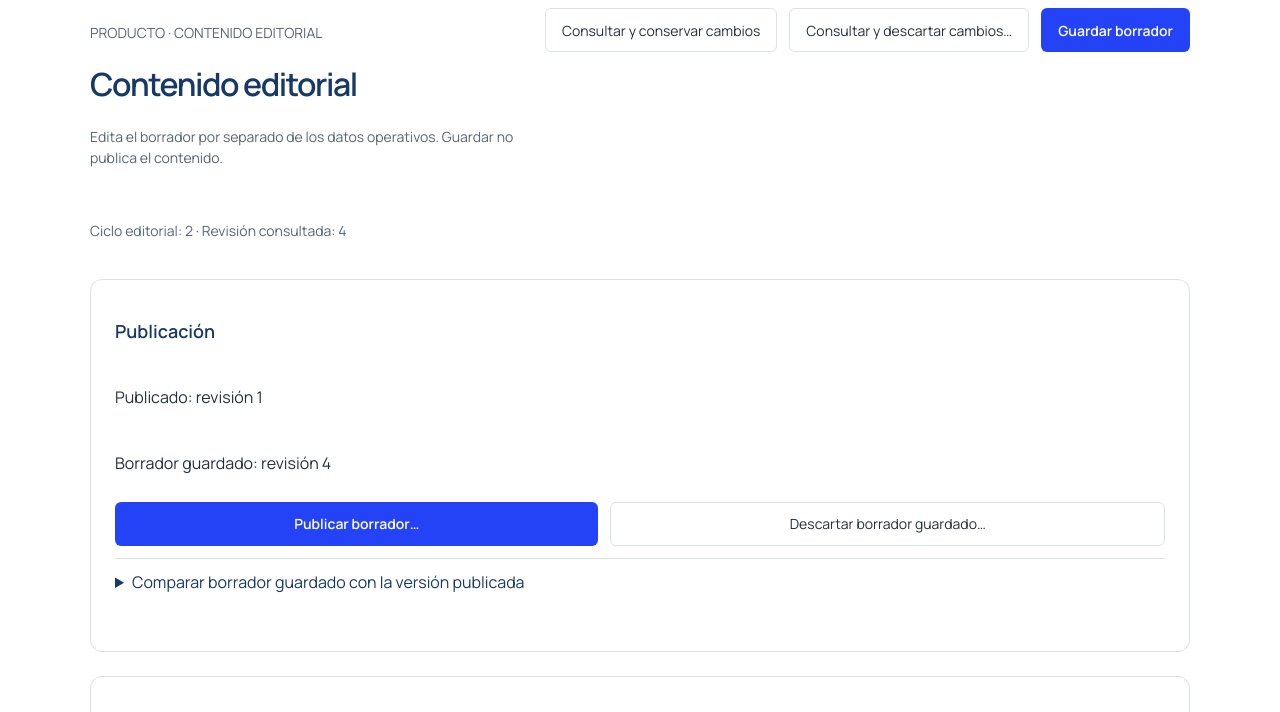
Test: editorial publication public UI › confirms only the saved revision, cancels without POST, and keeps receipt historical
Step 1. Click the button "Publicar borrador…" → (357,524), box [115,502,598,546]
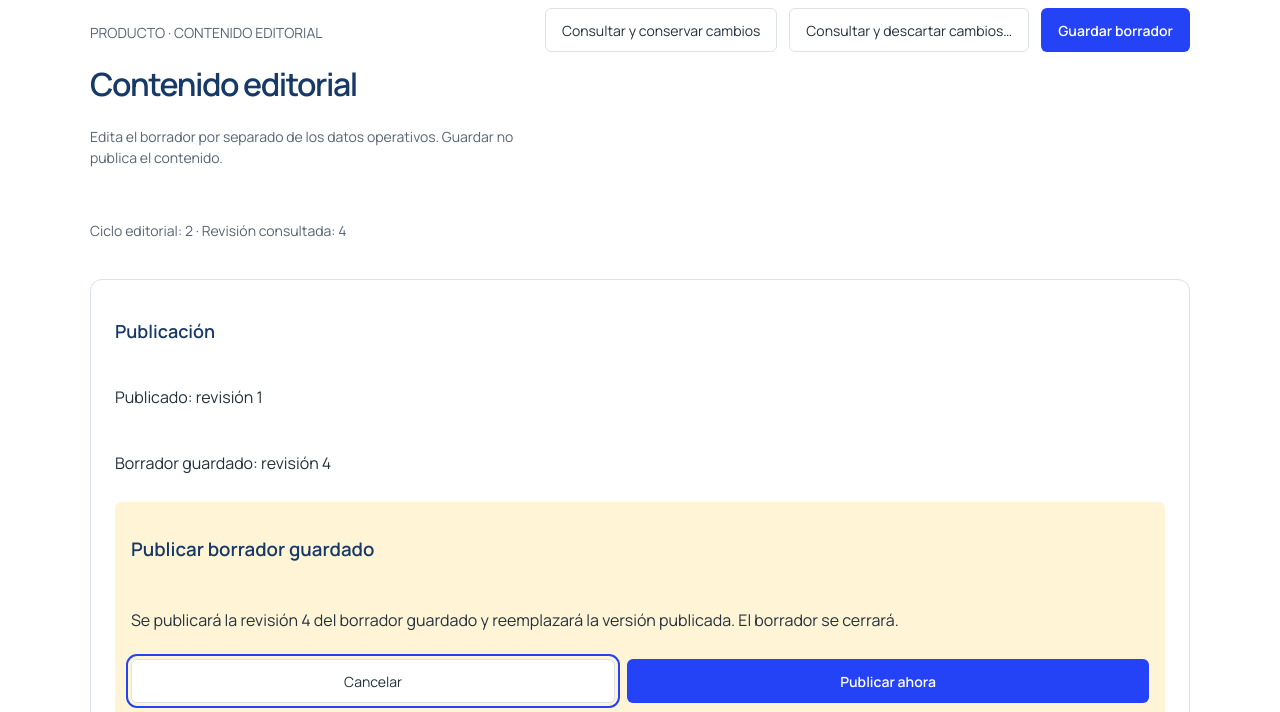
Expected: the element that starts with "Publicar borrador guardado" shows "Se publicará la revisión 4 del borrador guardado y reemplazará la versión publicada. El borrador se cerrará.", [131,609,899,631]
Step 2. Click the button "Cancelar" → (373,681), box [131,659,615,703]
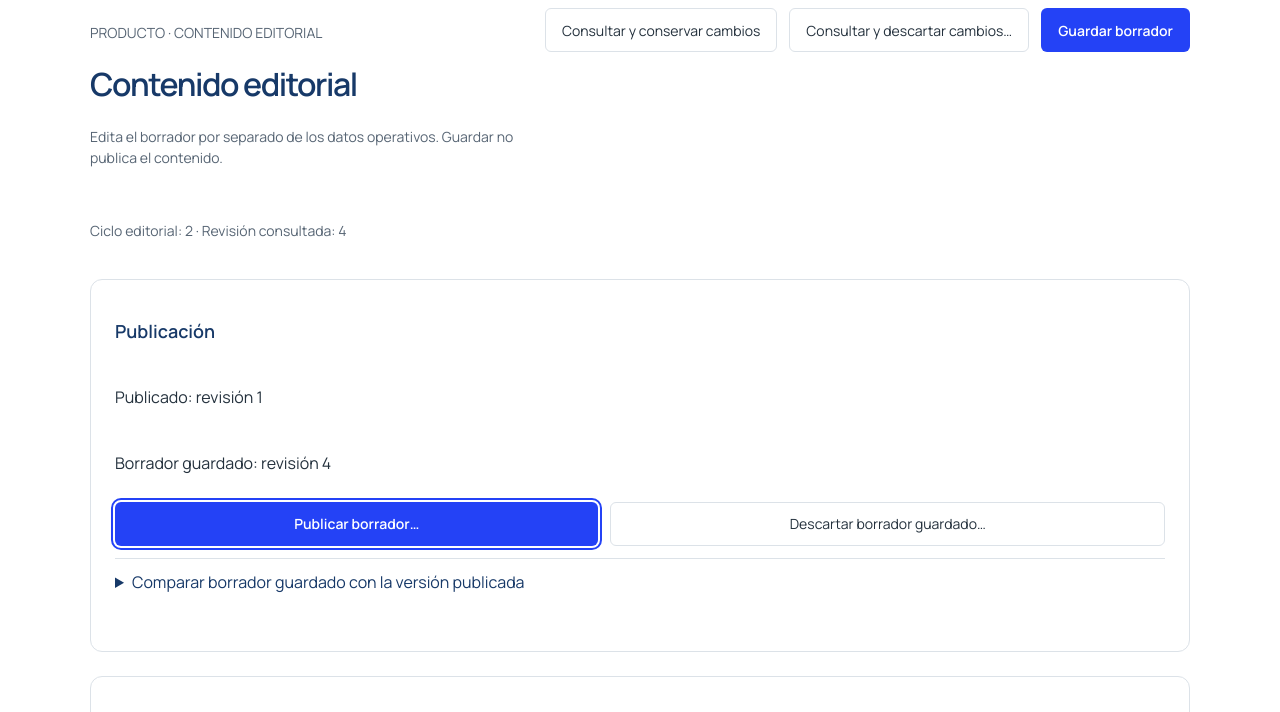
Step 3. Click the button "Publicar borrador…" → (357,524), box [115,502,598,546]
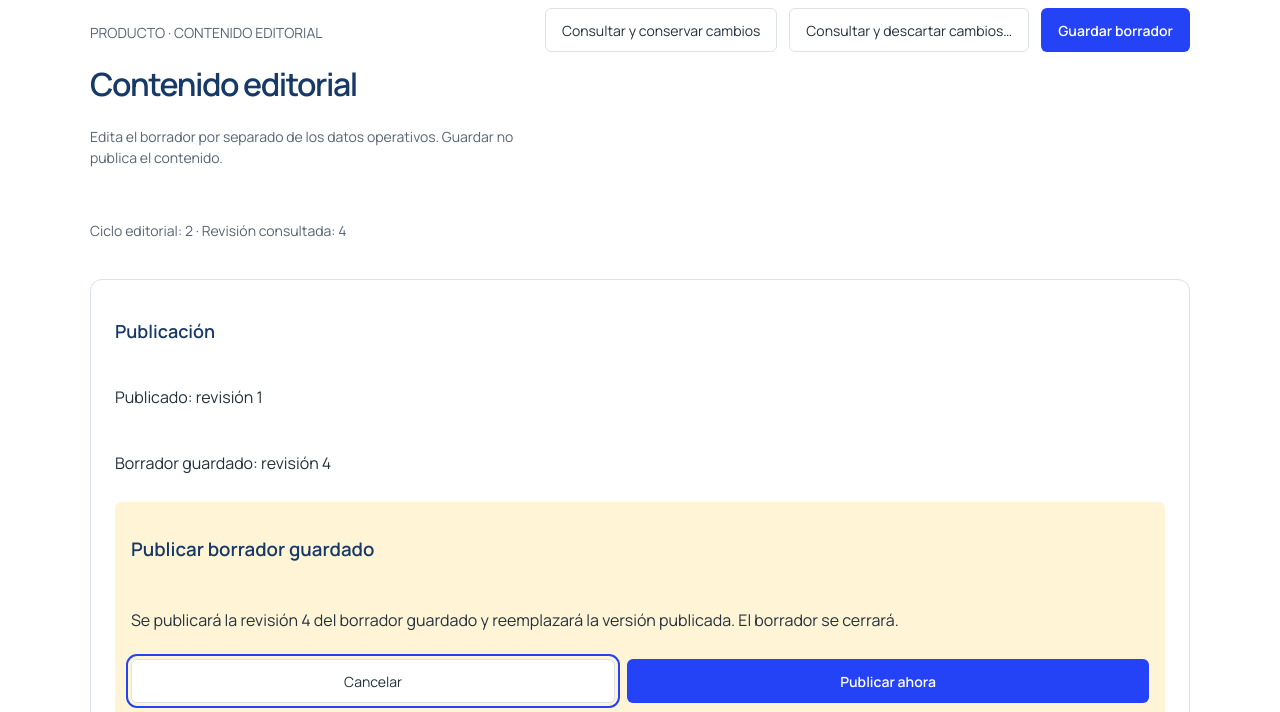
Step 4. Click the button "Publicar ahora" → (888,681), box [627,659,1149,703]
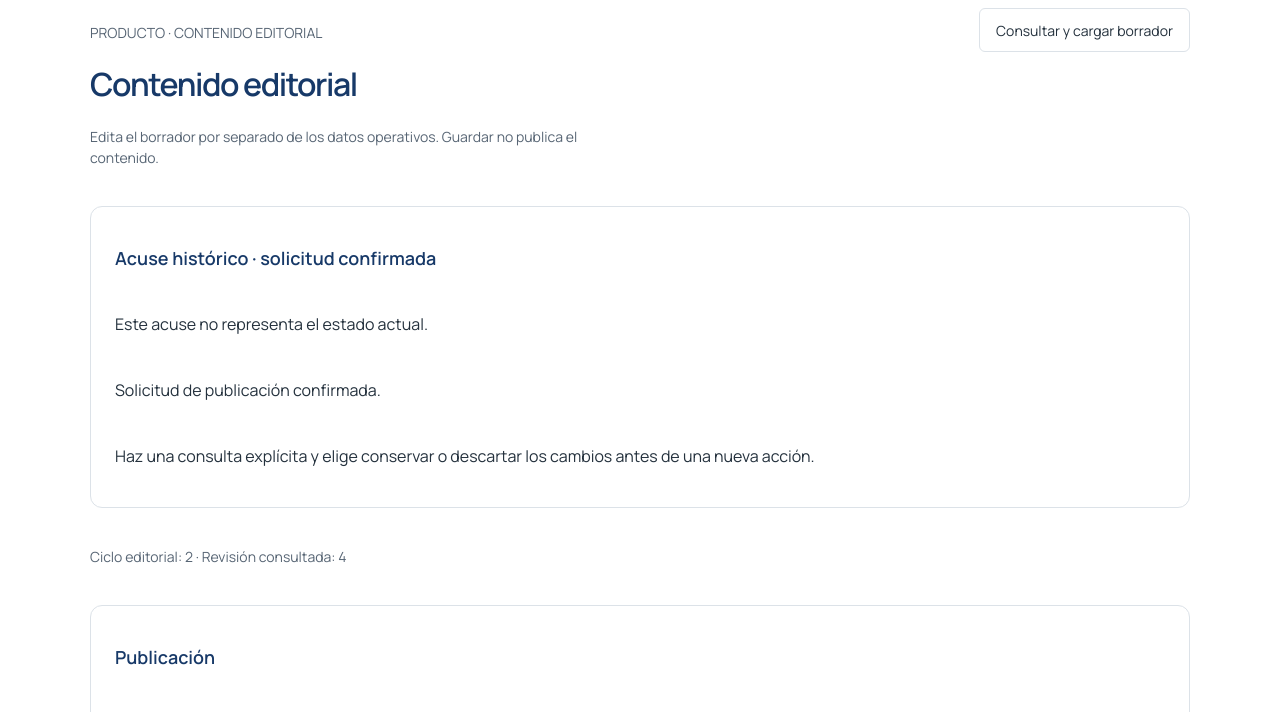
Expected: the button "Consultar y cargar borrador" is shown, [979,8,1190,52]
Expected: the text "Solicitud de publicación confirmada." is shown, [115,379,381,401]
Expected: the text "Este acuse no representa el estado actual." is shown, [115,313,428,335]
